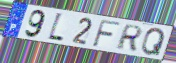2: (71, 17, 94, 47)
9: (24, 9, 48, 39)
F: (90, 19, 122, 49)
L: (46, 11, 66, 44)
Q: (140, 27, 167, 57)
R: (114, 23, 144, 52)
